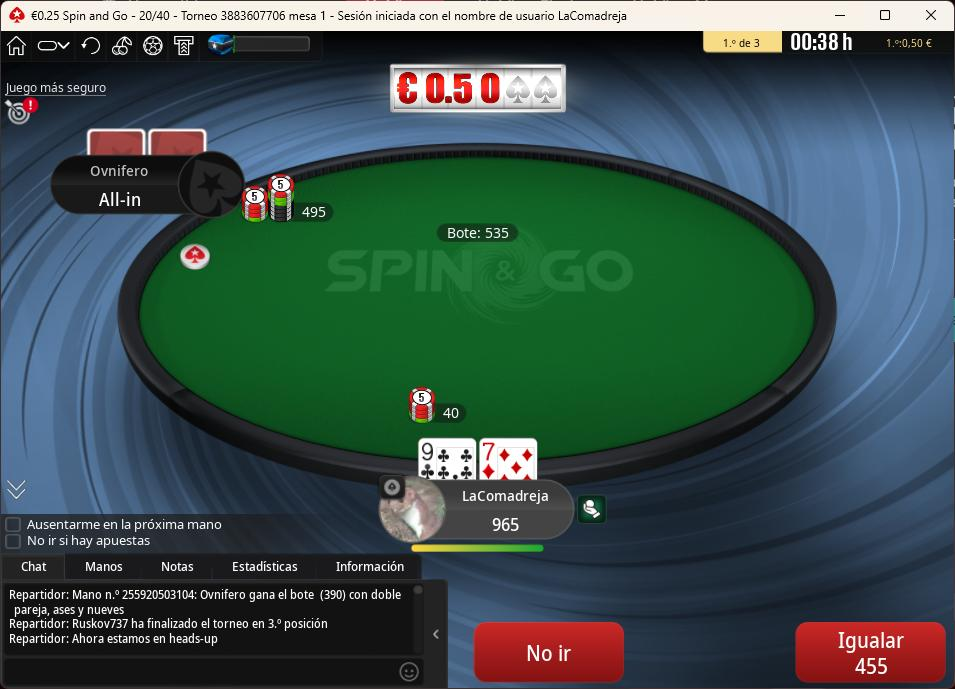ButtonCall: (791, 619, 950, 687)
ButtonFold: (470, 618, 629, 686)
Dealer: (180, 242, 214, 273)
HiddenCards: (83, 129, 212, 158)
Player: (49, 152, 244, 214)
PlayerBet: (238, 169, 347, 230)
PlayerChips: (91, 190, 148, 209), (483, 519, 531, 538)
Pot: (435, 220, 522, 247)
PrincipalBet: (404, 383, 472, 429)
PrincipalCards: (416, 435, 540, 484)
PrincipalCards1: (414, 436, 477, 483), (479, 436, 542, 482), (417, 435, 479, 481)
PrincipalCards2: (477, 436, 539, 484)
PrincipalPlayer: (372, 471, 571, 543)
SmallBigBlind: (127, 0, 180, 30)
